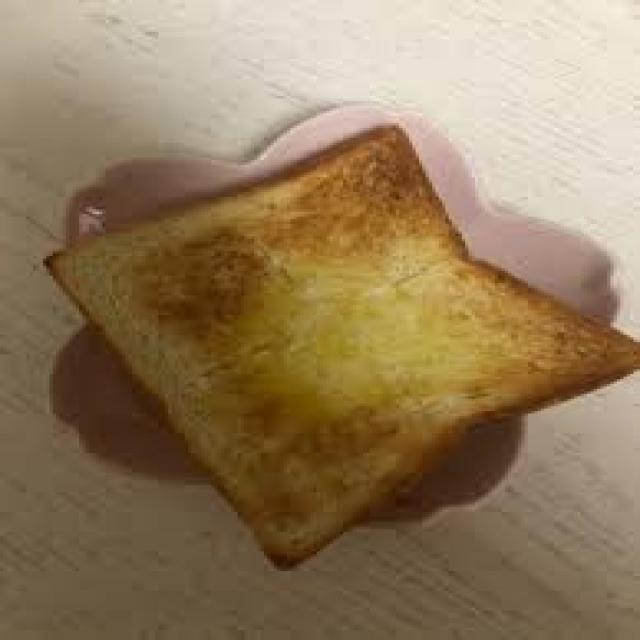biodegradable: (36, 123, 637, 566)
